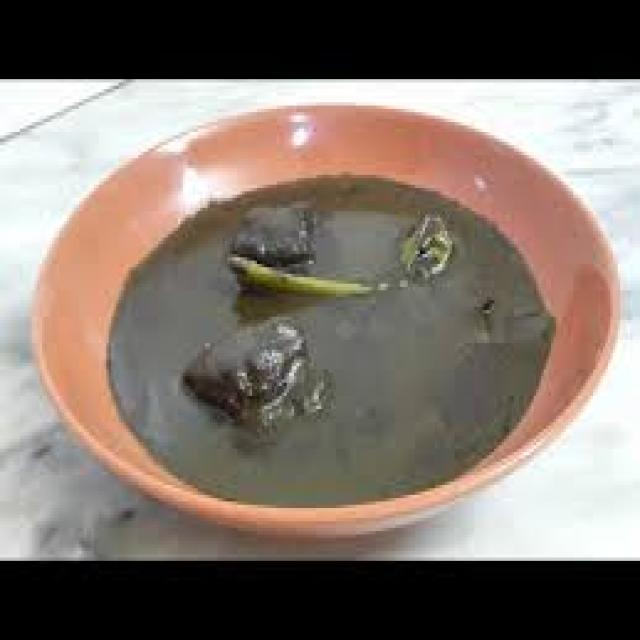Melloukhia: (61, 141, 534, 488)
